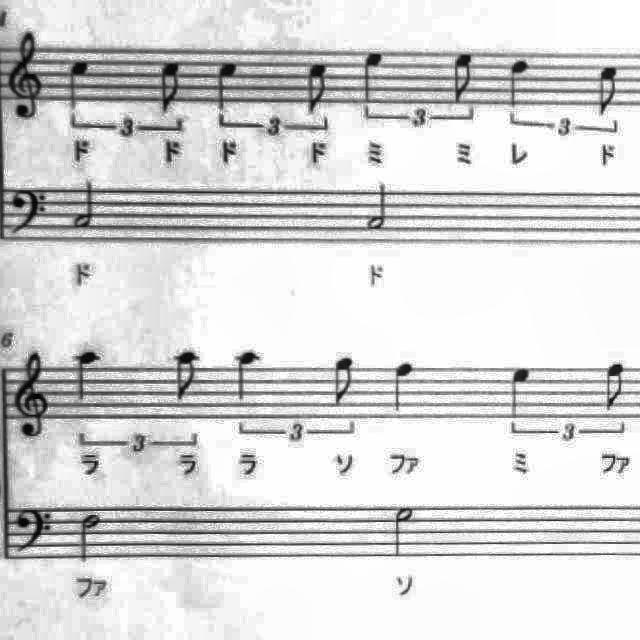Bass-clef: (4, 182, 52, 242), (10, 499, 58, 559)
Eighth-note: (152, 56, 192, 120), (298, 58, 336, 122), (167, 344, 206, 406), (596, 357, 636, 417), (592, 58, 628, 122), (444, 48, 482, 106), (328, 352, 364, 412)
Half-note: (74, 506, 110, 566), (68, 176, 104, 236), (360, 178, 396, 238), (390, 500, 422, 560)
Quarter-note: (352, 44, 392, 108), (207, 54, 245, 118), (228, 344, 268, 404), (503, 361, 541, 424), (502, 50, 538, 114), (72, 342, 108, 406), (384, 356, 420, 419), (62, 55, 96, 117)
Treble-clef: (0, 25, 48, 124), (8, 346, 54, 444)
